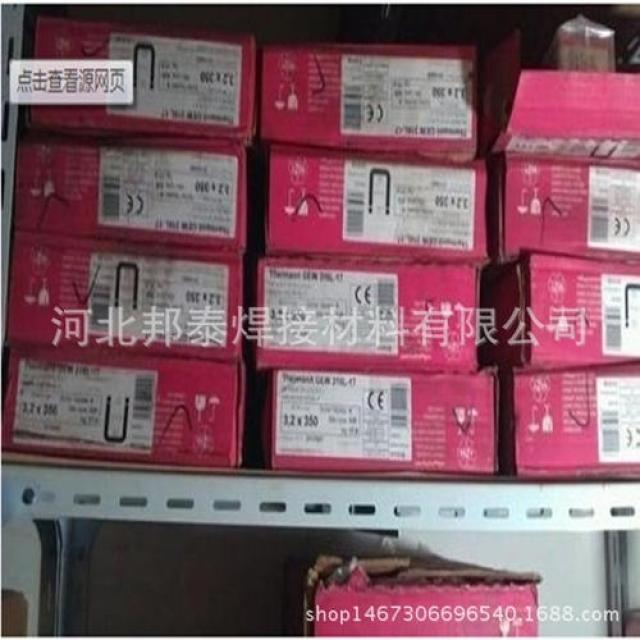box: (5, 225, 243, 361), (1, 346, 247, 468), (27, 18, 257, 142), (13, 131, 246, 253), (264, 142, 489, 265), (256, 255, 481, 371), (261, 366, 499, 475), (259, 45, 477, 157), (483, 31, 640, 159), (302, 554, 539, 637), (490, 251, 640, 371), (485, 156, 640, 265), (498, 364, 640, 476), (541, 18, 618, 70), (1, 588, 27, 636)
